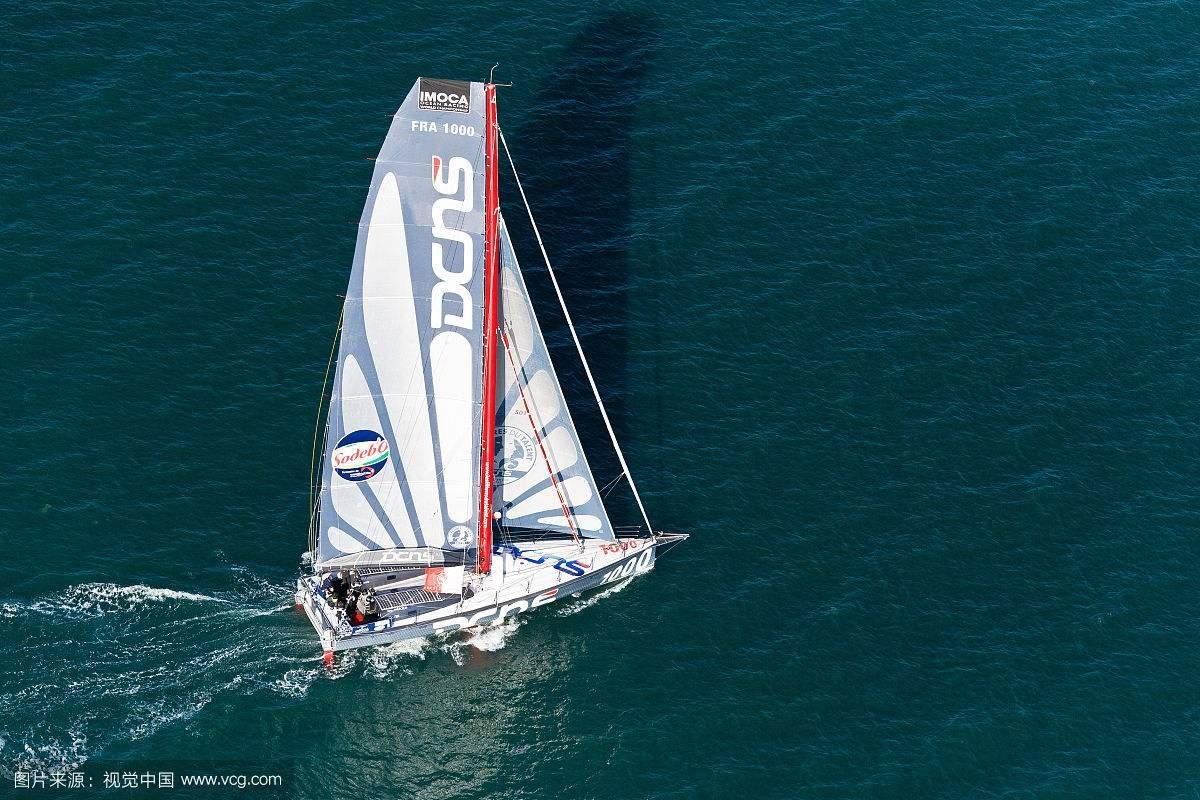fanchuan: (280, 65, 695, 669)
